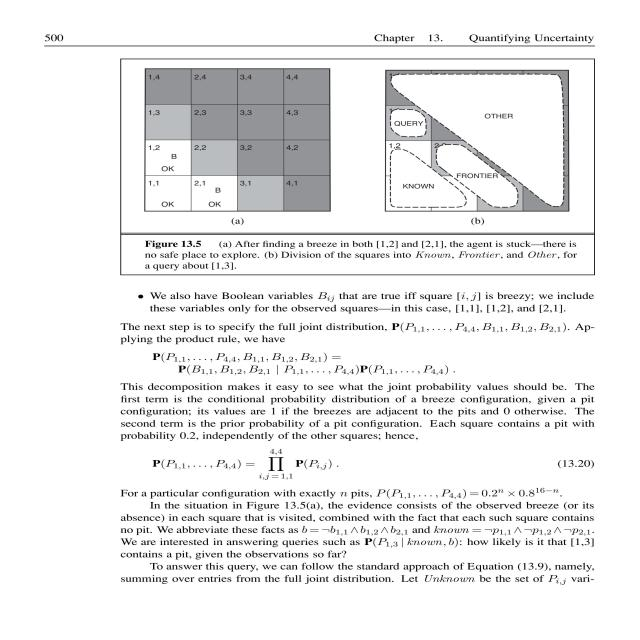diagram: (87, 51, 618, 273)
